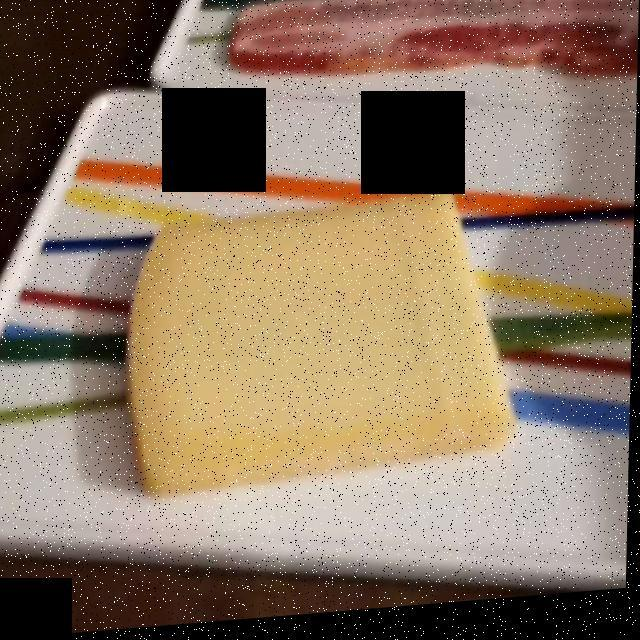cheese: (139, 216, 508, 494)
